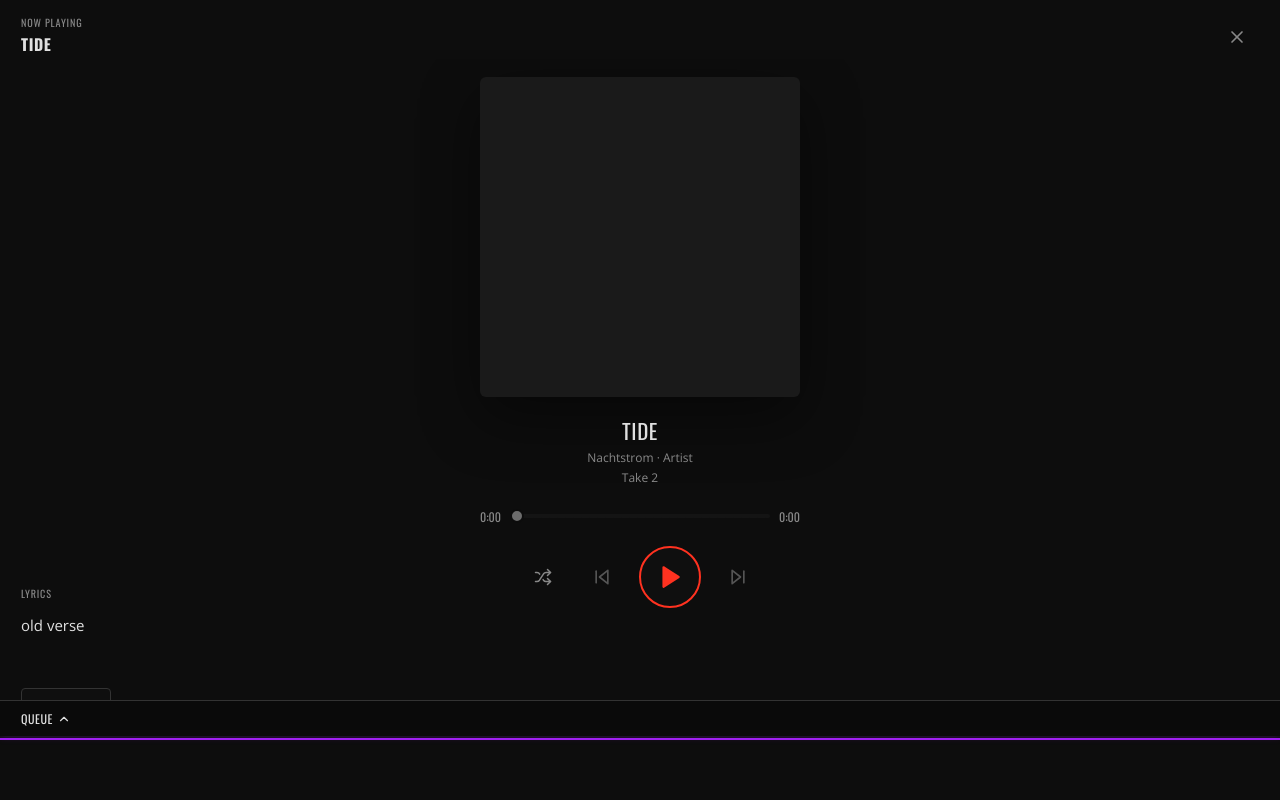
Scenario: NowPlaying › stacks into a single column and opens the panel as a sheet on a narrow/coarse layout
The image size is (1280, 800).
Step 1. Click the button with class "mobile-panel-trigger" → (37, 718), box [0,700,1279,736]
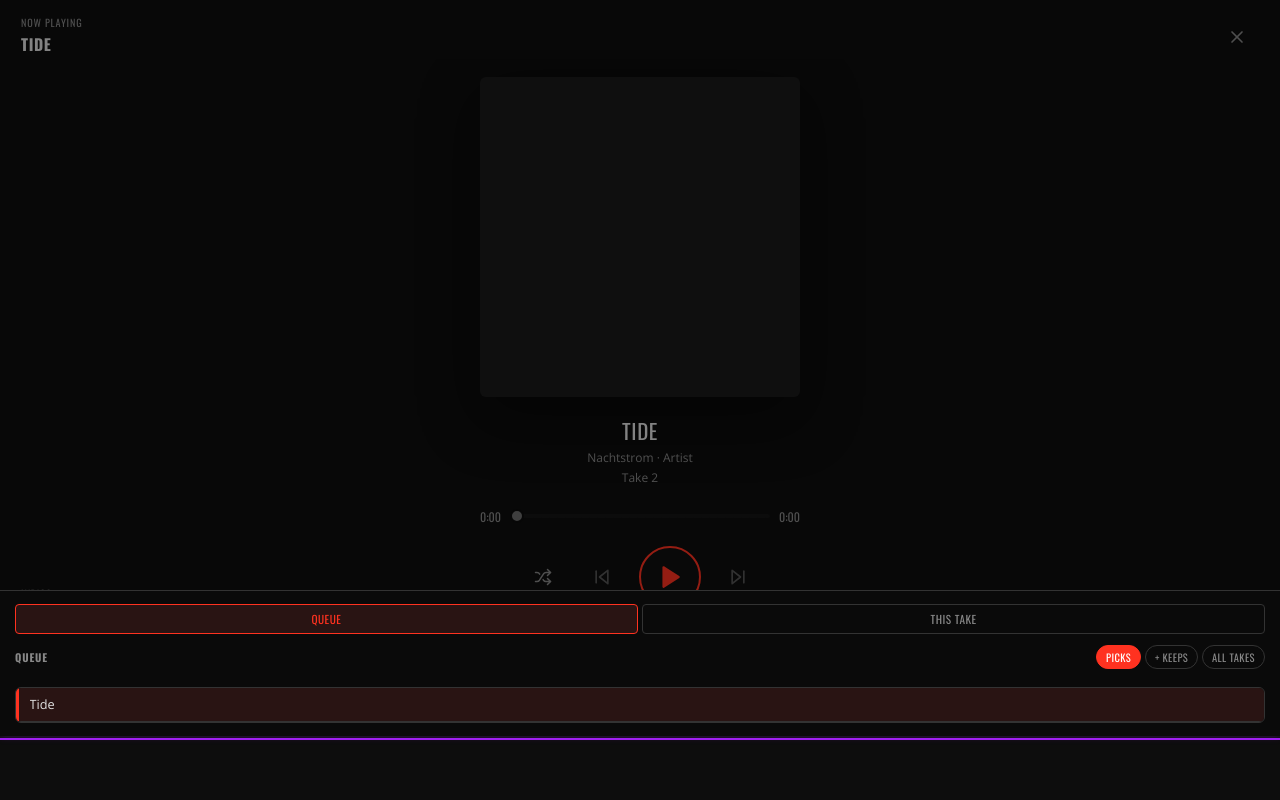
Now the dialog with class "mobile-sheet" is shown, box [0,590,1279,736]
Step 2. Click the button with class "mobile-sheet-backdrop" → (640, 368), box [0,0,1279,736]
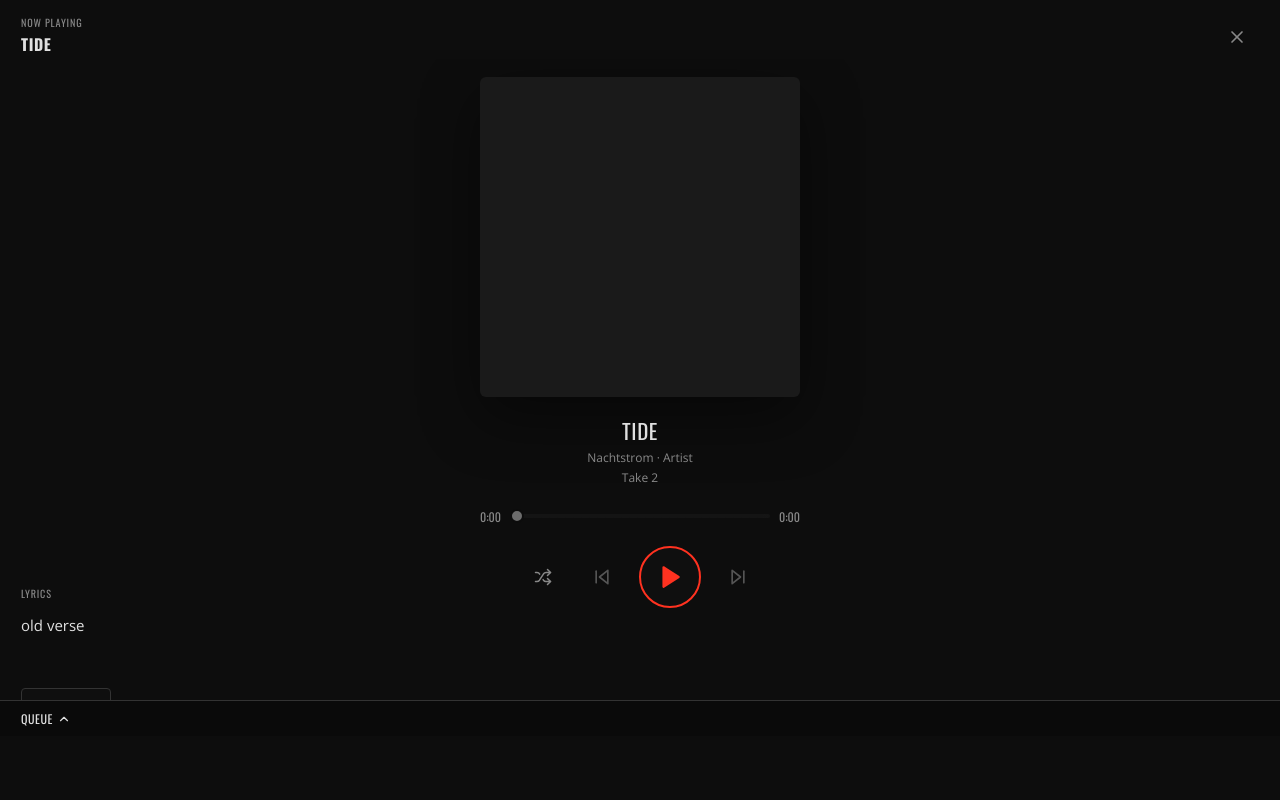
Now the dialog with class "mobile-sheet" is gone
